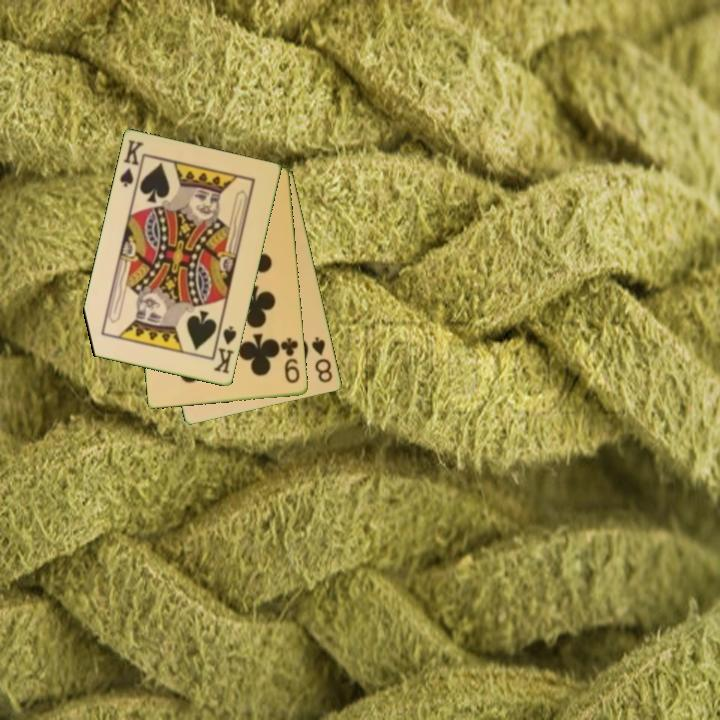8s: (308, 334, 336, 386)
9c: (278, 334, 303, 386)
Ks: (116, 136, 147, 194), (210, 321, 240, 377)
